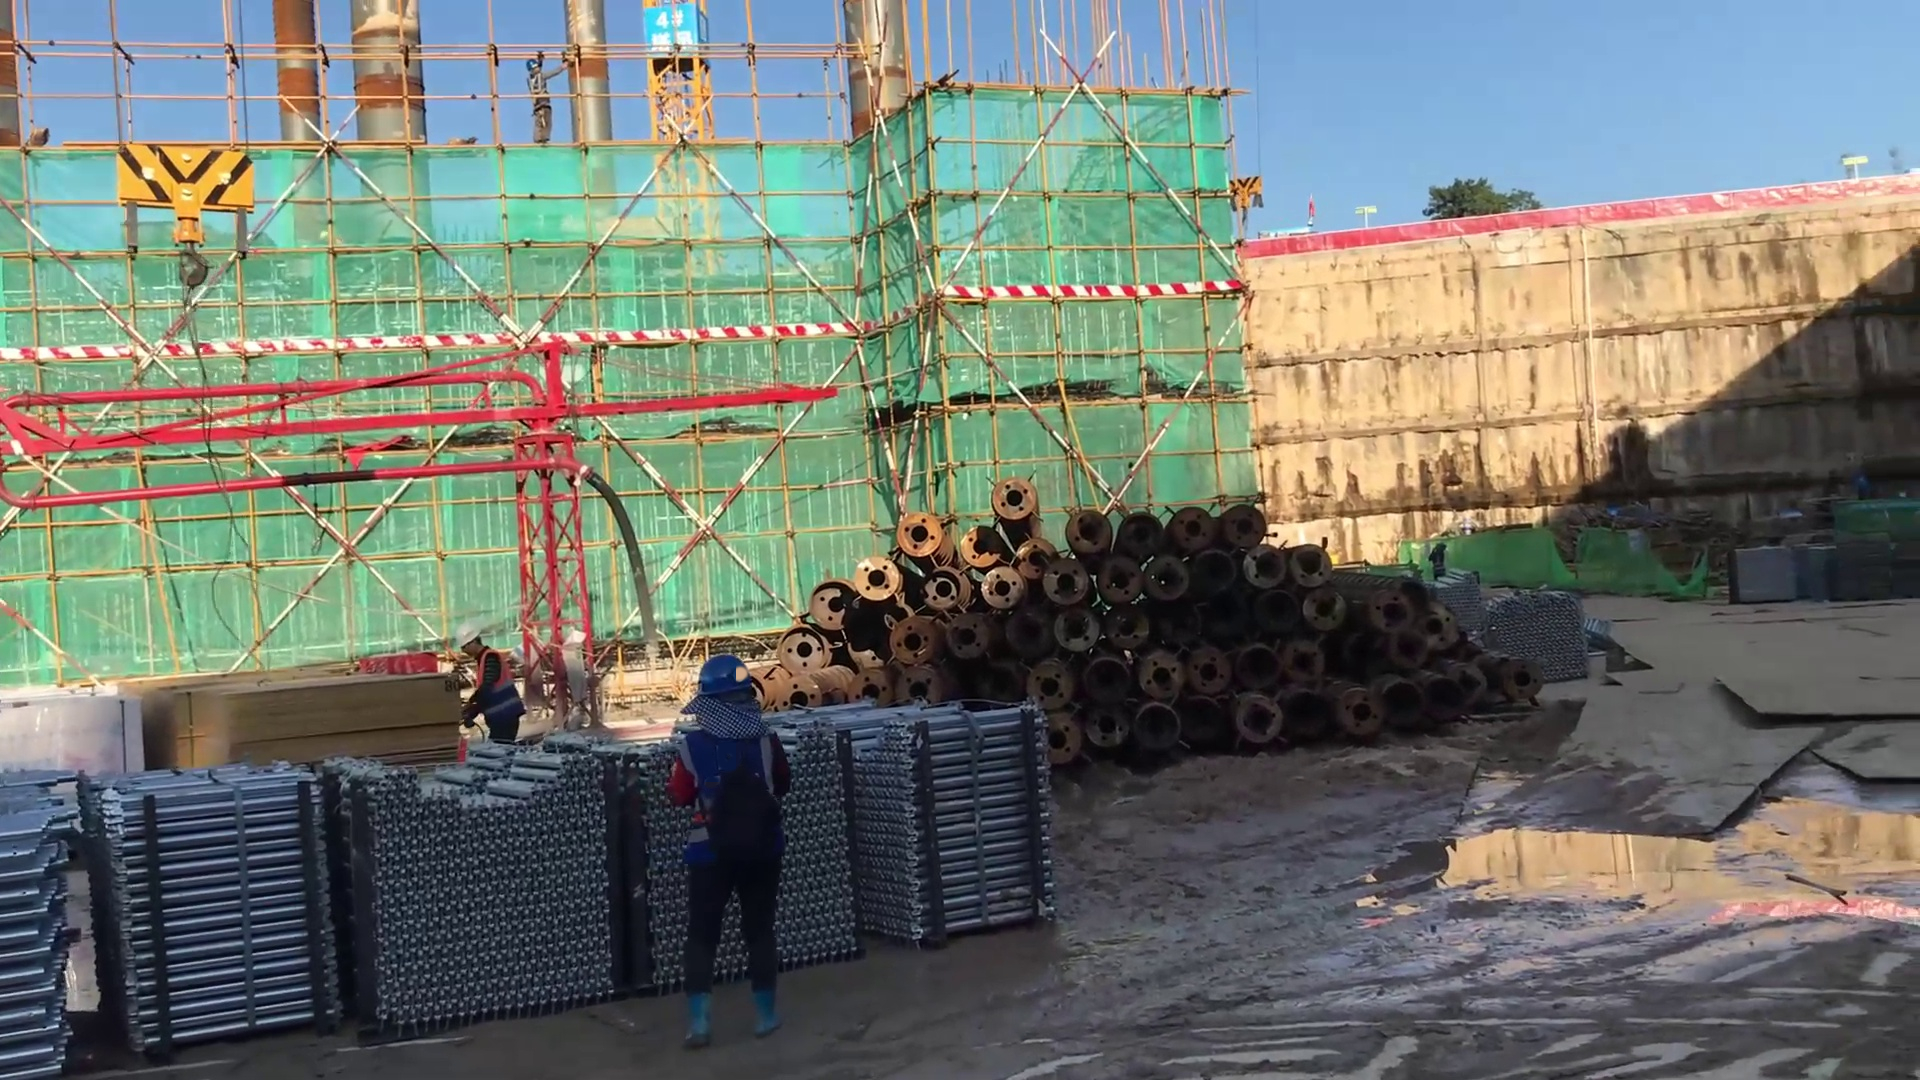board: (121, 666, 458, 774)
fence: (1240, 173, 1920, 267)
helmet: (688, 654, 765, 706), (450, 618, 480, 659), (520, 45, 552, 79)
hook: (112, 127, 272, 302), (1216, 167, 1279, 249)
person: (678, 654, 788, 1042), (458, 622, 530, 756), (523, 51, 567, 149)
scaffold: (352, 745, 626, 1037), (101, 746, 327, 1038), (837, 694, 1070, 976), (645, 716, 844, 1005), (1, 756, 88, 1079), (1425, 569, 1602, 694)
slogan: (644, 9, 704, 57)
vest: (678, 727, 787, 863), (460, 645, 528, 724)
